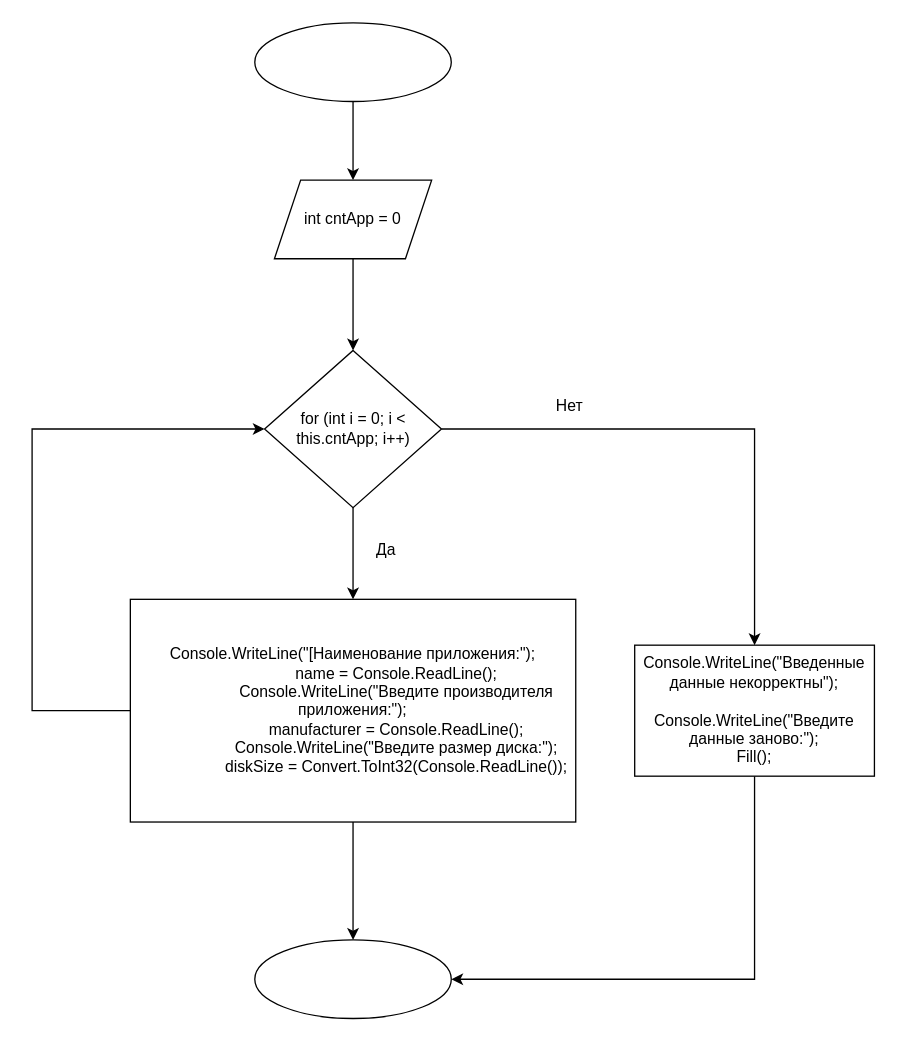
Some shapes in this 897 by 1041 pixel diagram are drawn without their labels. Each missing label, with the centre of its shape:
"Конец" belongs at point (352, 979).
"начало" belongs at point (352, 62).
